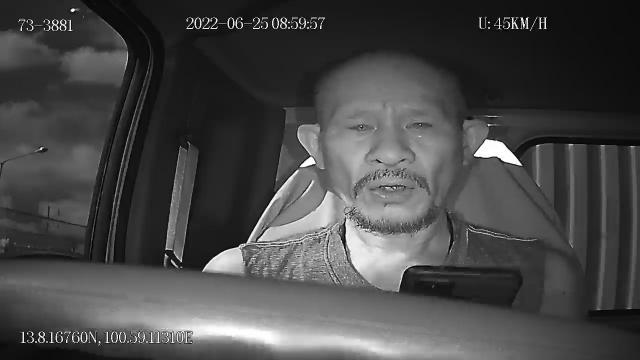PhoneUse: (397, 263, 525, 305)
SafeDriving: (398, 108, 441, 138), (339, 111, 382, 139)
